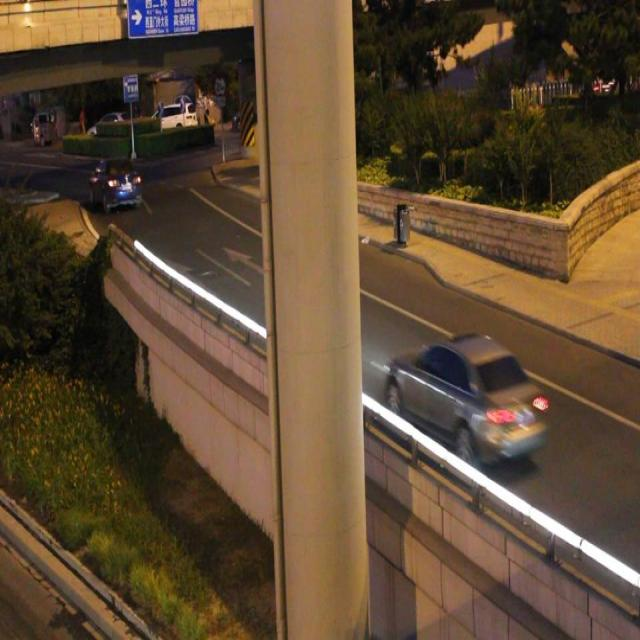car: (383, 329, 546, 466), (89, 158, 141, 211)
